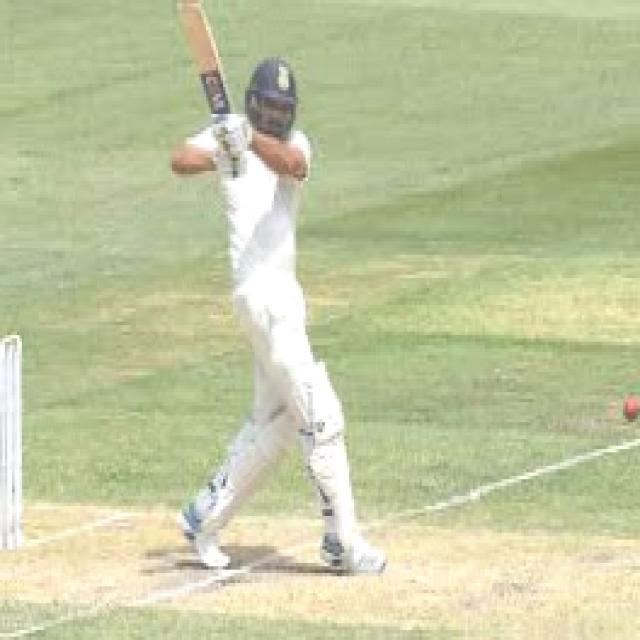toe: (178, 3, 210, 33)
